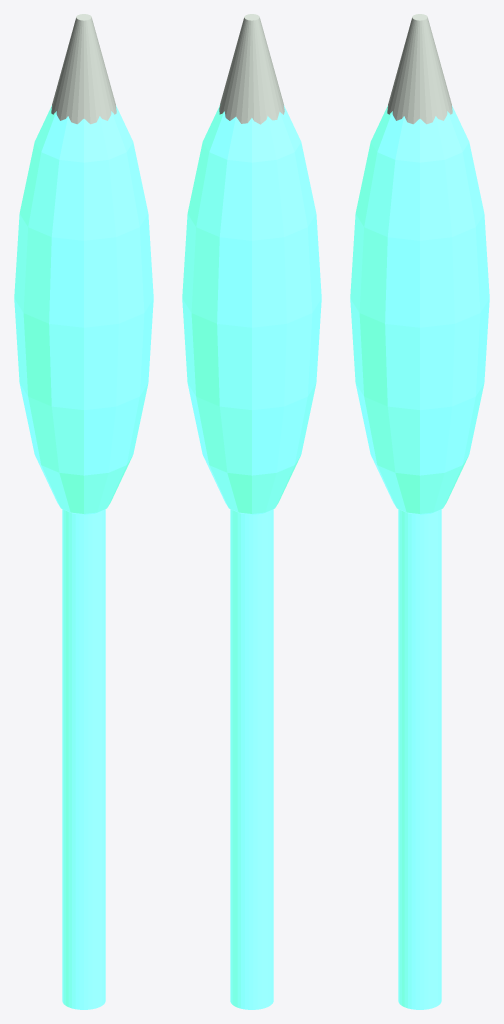
The model's file is bala_franco_mesh.glb.
3 views of the same model, side by side, from view 1: azimuth 90°, elevation 25°; view 2: azimuth 150°, elevation 25°; view 3: azimuth 270°, elevation 25° (orthographic).
Visible parts, largest first — view 1: BalaFranco; view 2: BalaFranco; view 3: BalaFranco.
Part boxes in pixels (left/top/right/bottom): BalaFranco: left=14, top=14, right=153, bottom=1009; BalaFranco: left=182, top=14, right=321, bottom=1009; BalaFranco: left=350, top=14, right=489, bottom=1009.
Size of the model in its own units: 0.09 by 0.7 by 0.09.
